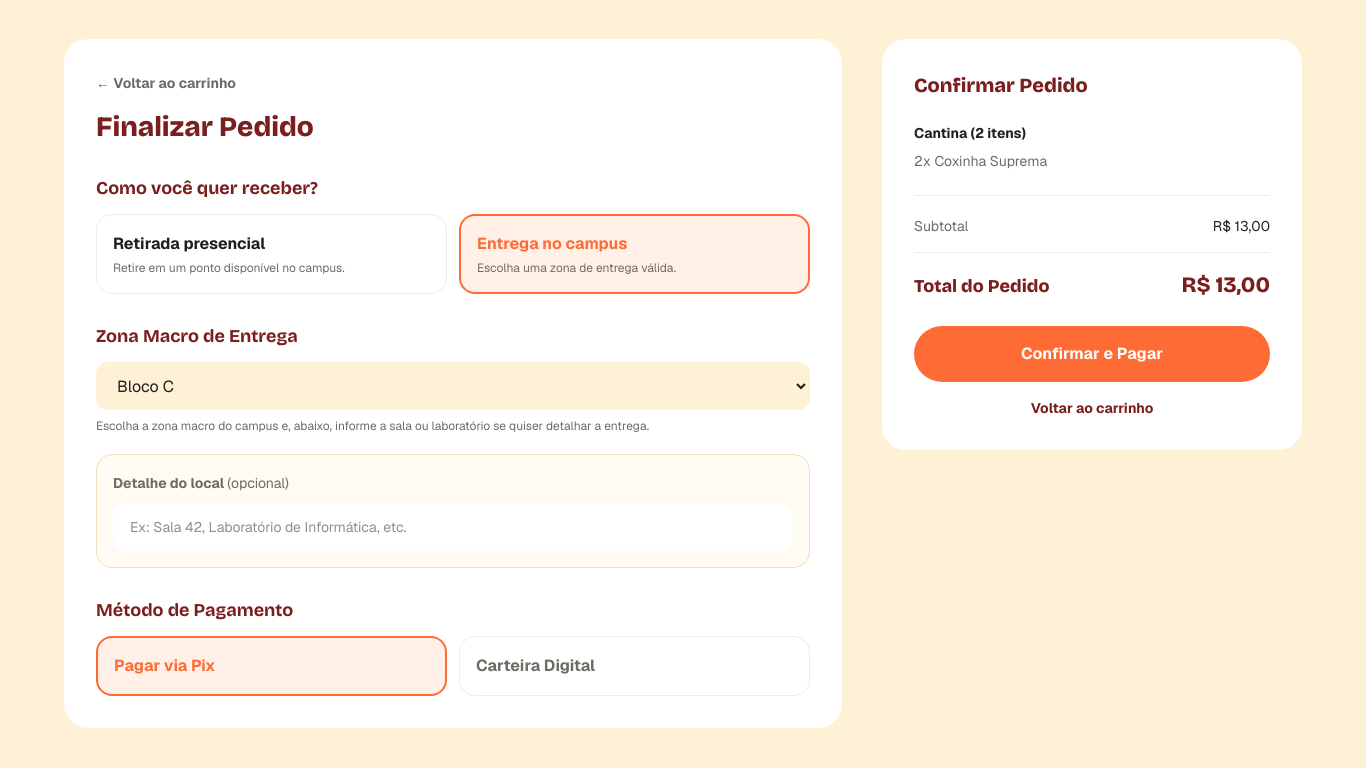
Test: CheckoutPage › preserves the cart and explains insufficient wallet balance
(page scrolled)
Click the button "Carteira Digital".
click(536, 666)  # box [459,636,810,696]
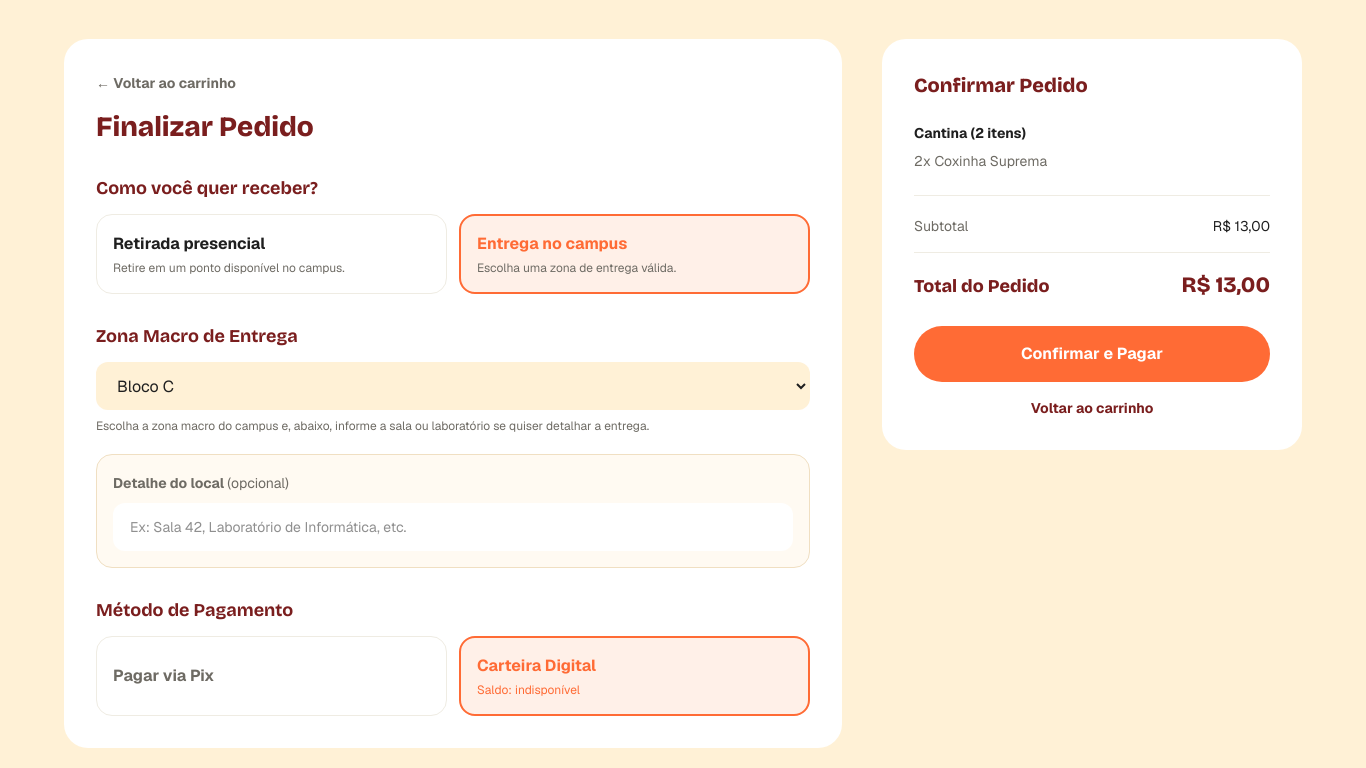
Click the button "Confirmar e Pagar".
click(1092, 354)  # box [914,326,1270,382]
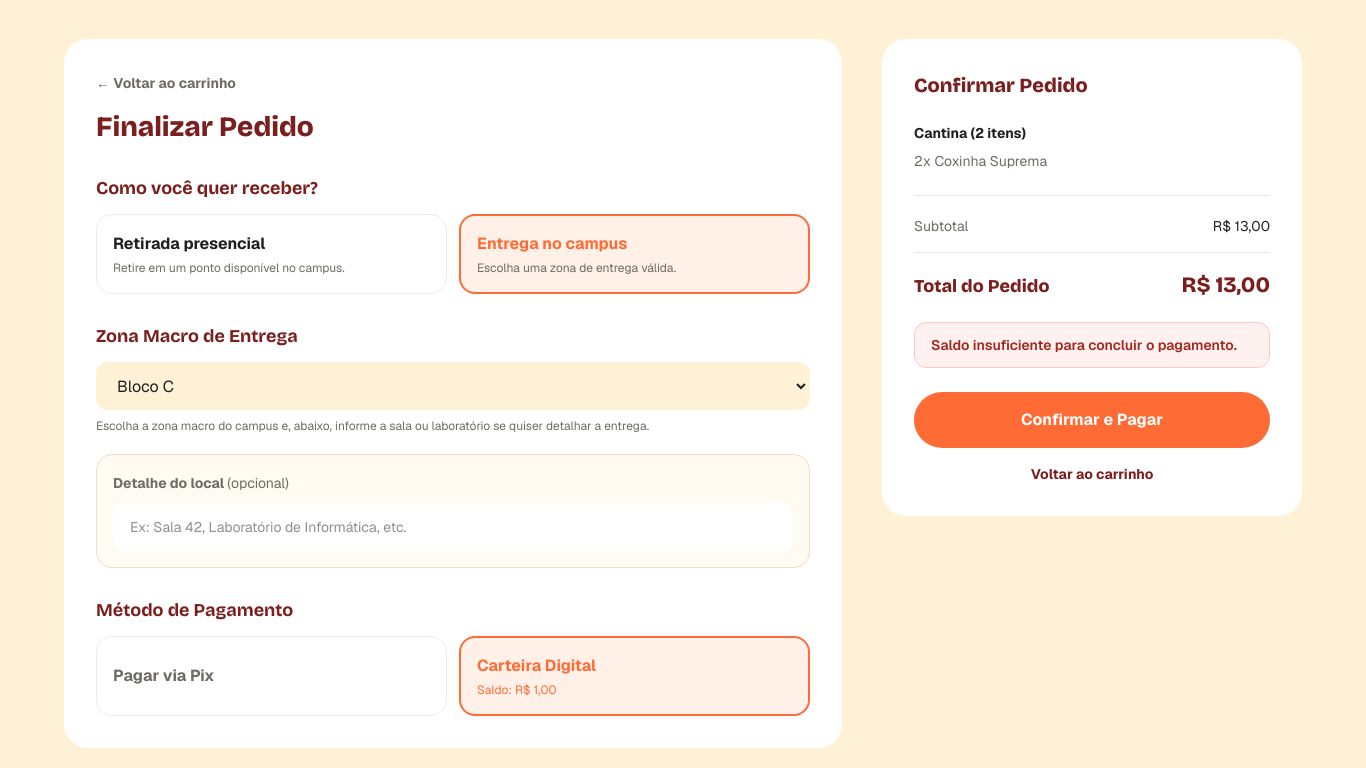
Now the message shows "Saldo insuficiente", box [931,336,1237,354]
